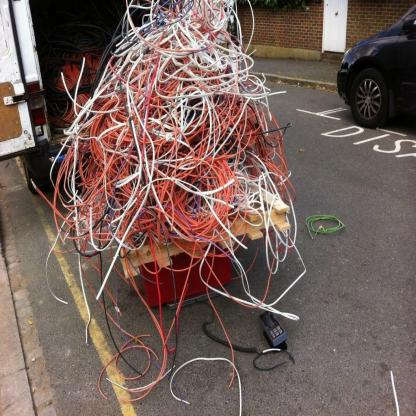wires: (29, 1, 306, 412), (302, 213, 351, 243)
